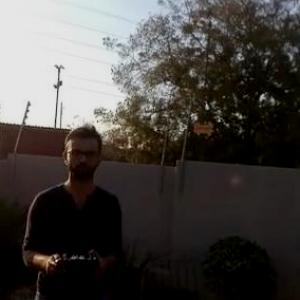follow: (16, 116, 128, 299)
